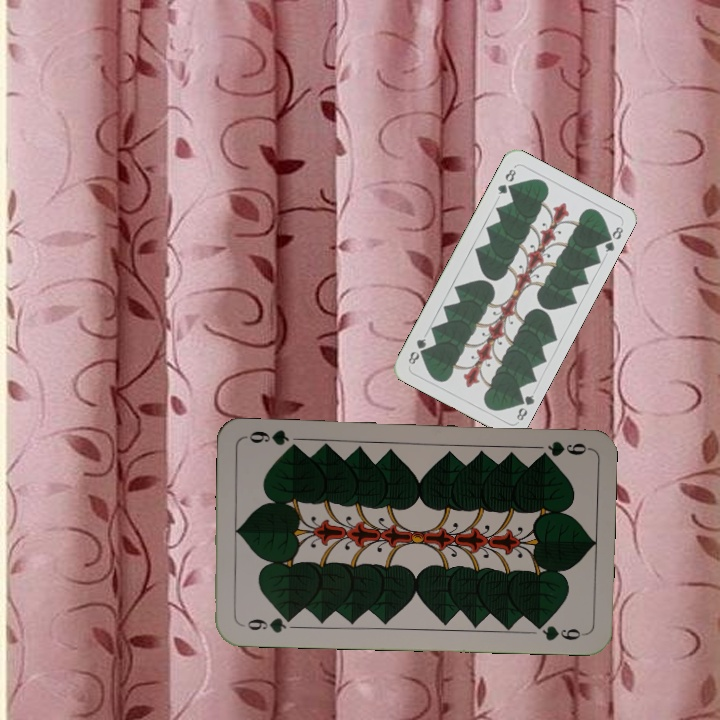G8: (494, 165, 519, 197), (512, 391, 537, 423)
G9: (535, 437, 591, 460), (243, 612, 296, 635)
